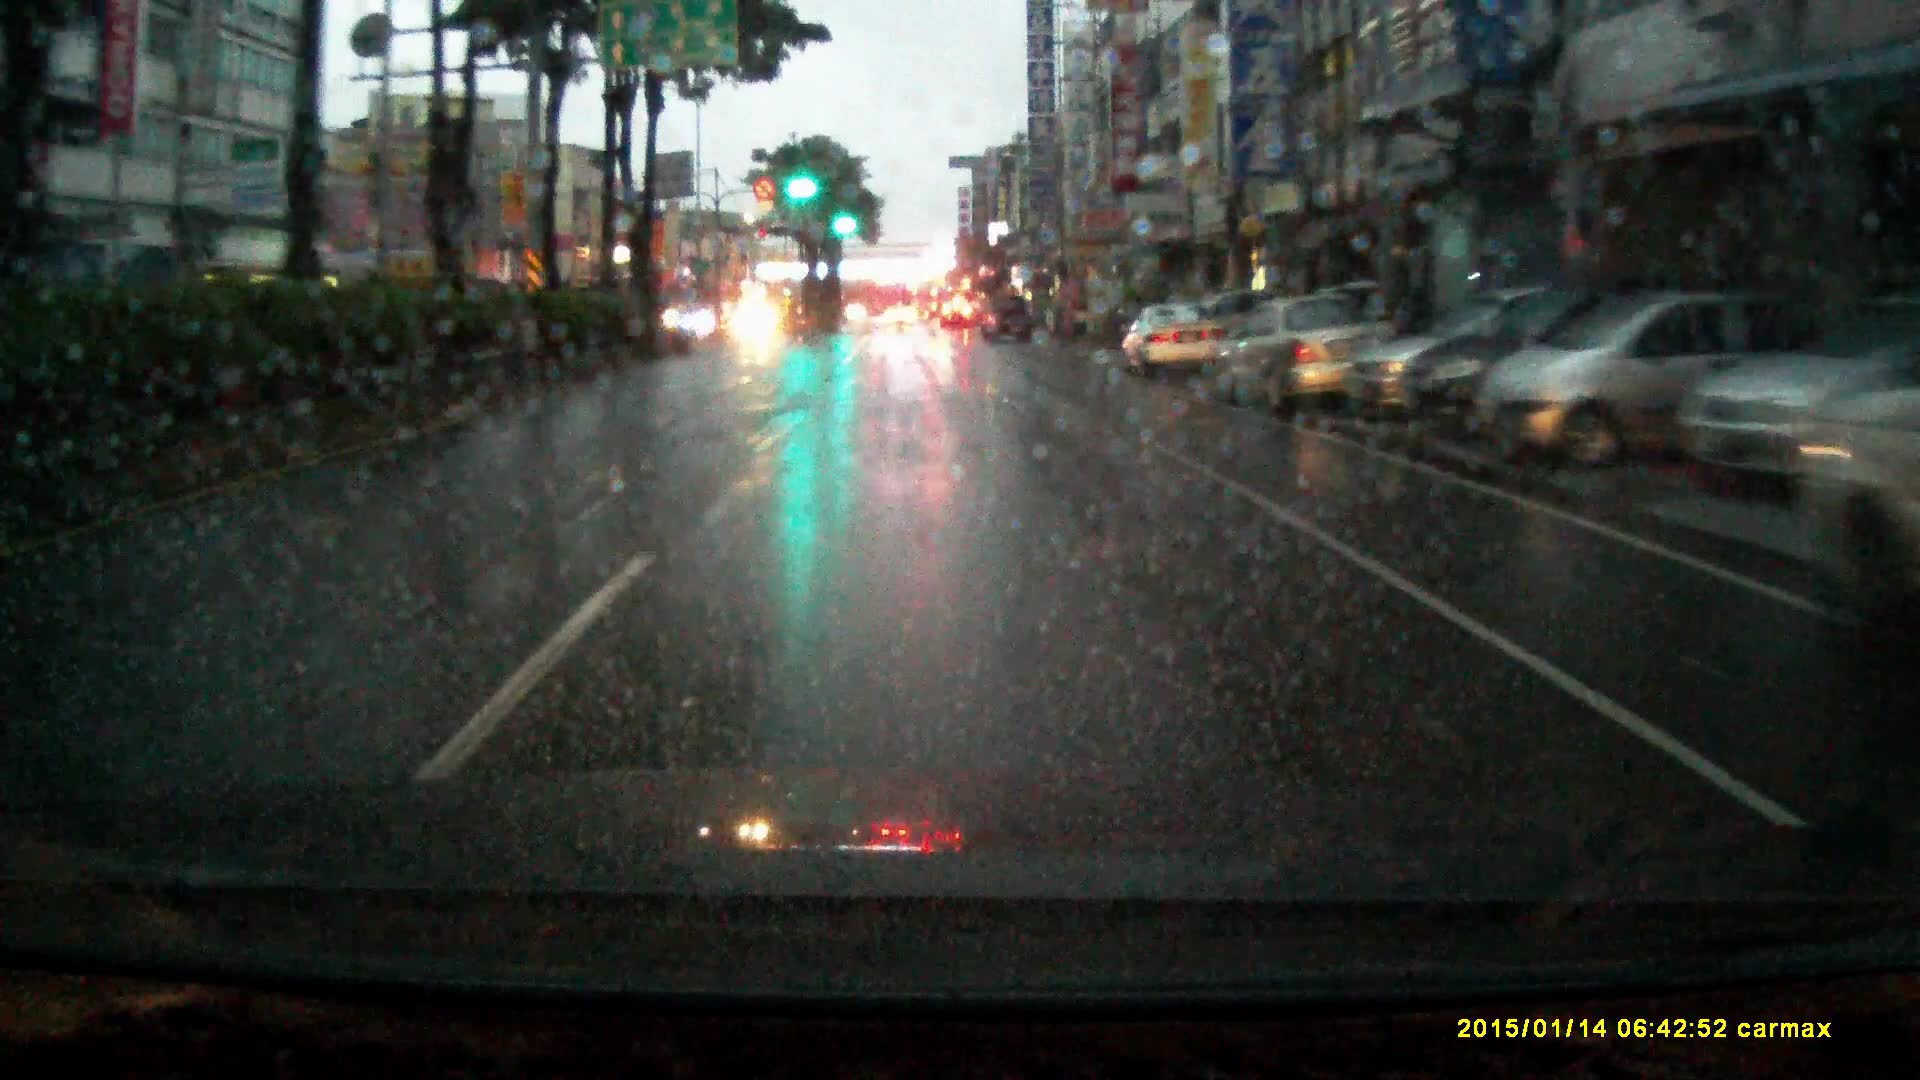vehicle: (1484, 291, 1820, 473), (1677, 314, 1920, 495), (1784, 365, 1920, 615), (1215, 287, 1403, 426), (1124, 303, 1218, 386), (980, 291, 1033, 343), (731, 301, 785, 348), (940, 297, 975, 328), (914, 277, 940, 318), (886, 303, 918, 324)
